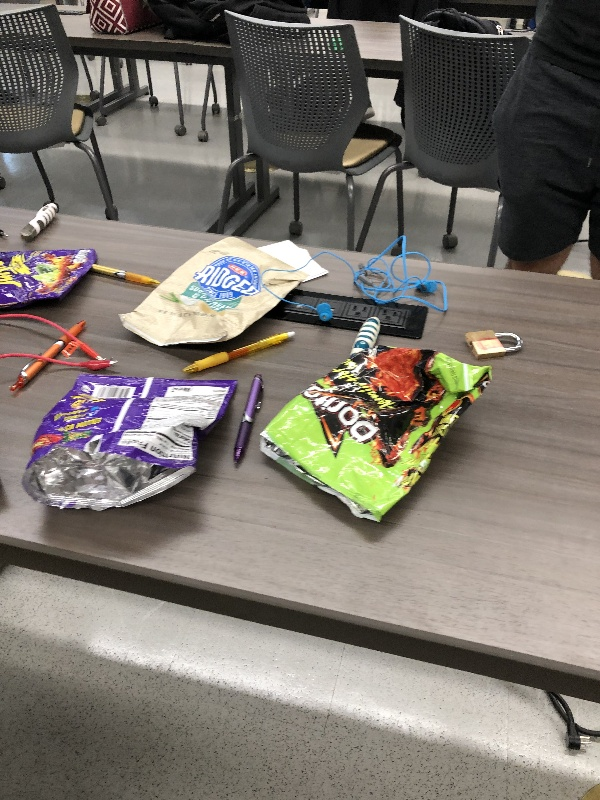bag: (259, 341, 496, 530), (19, 371, 241, 516), (112, 232, 313, 353), (1, 243, 100, 312)
